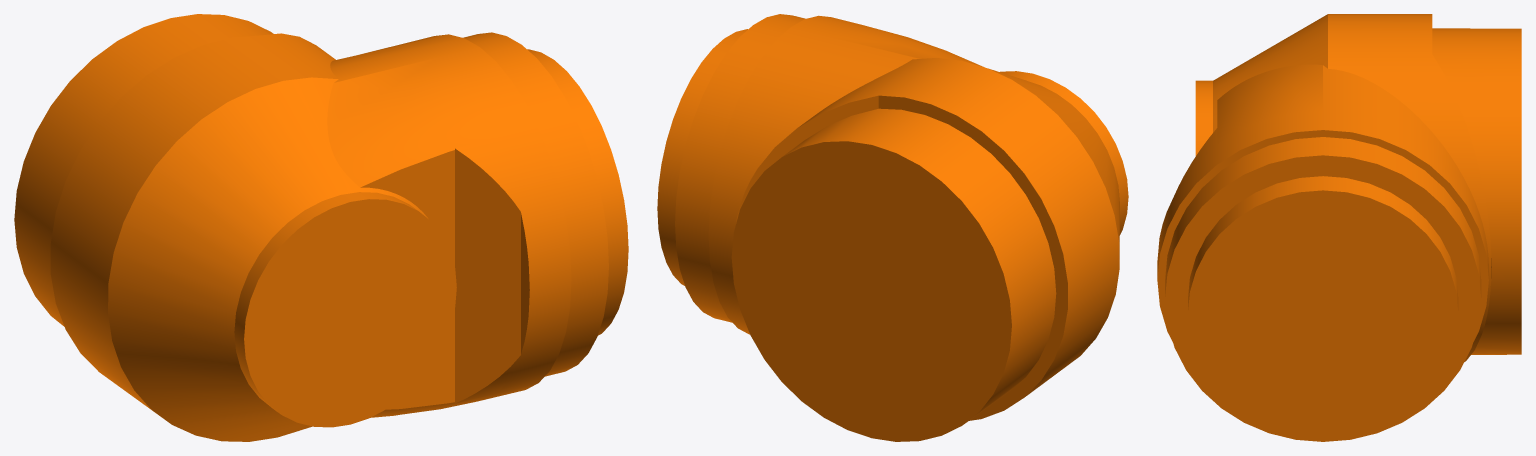
Rendered from kuka_kr_60_5.fbx.
3 renders of one model, left to right at view 1: azimuth 30°, elevation 25°; view 2: azimuth 150°, elevation 25°; view 3: azimuth 270°, elevation 25°, orthographic. The views are drawn at different scales.
Visible parts, largest first — view 1: 5; view 2: 5; view 3: 5.
Part boxes in pixels (x1=…): 5: x1=14, y1=14, x2=628, y2=441; 5: x1=657, y1=14, x2=1128, y2=441; 5: x1=1157, y1=14, x2=1521, y2=441.
Size of the model in its own units: 0.2128 by 0.1629 by 0.167.
